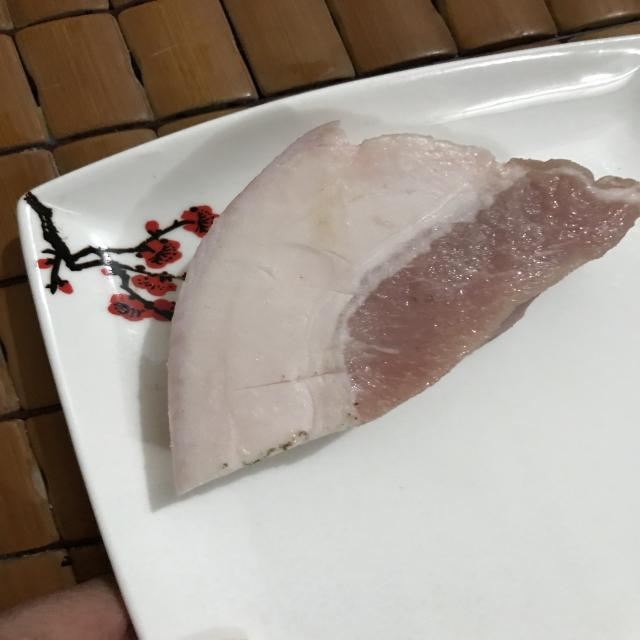chicken: (137, 113, 640, 509)
